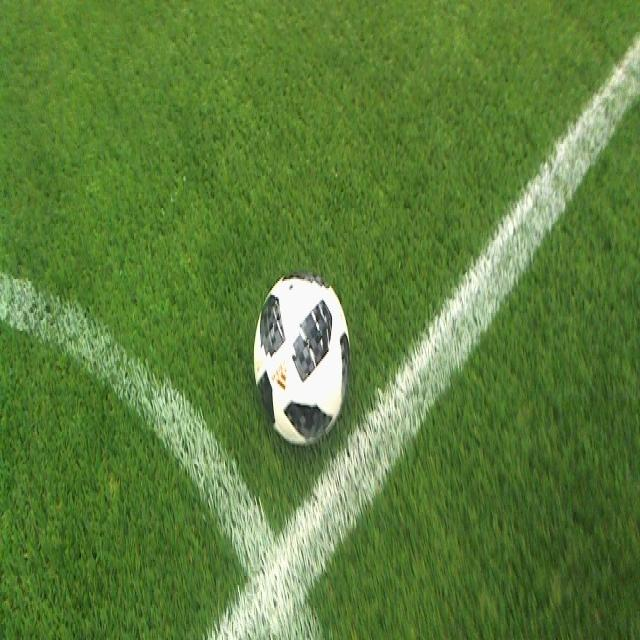ball: (252, 270, 352, 448)
